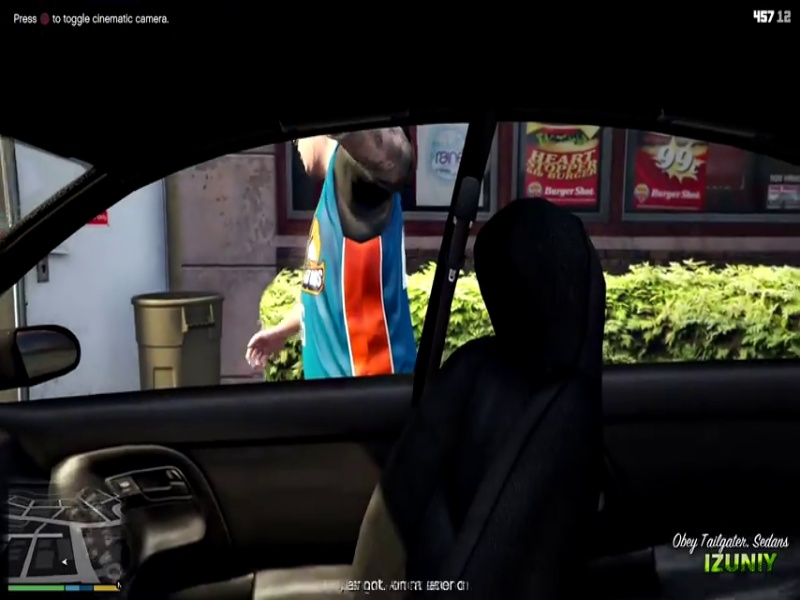human: (276, 126, 418, 388)
